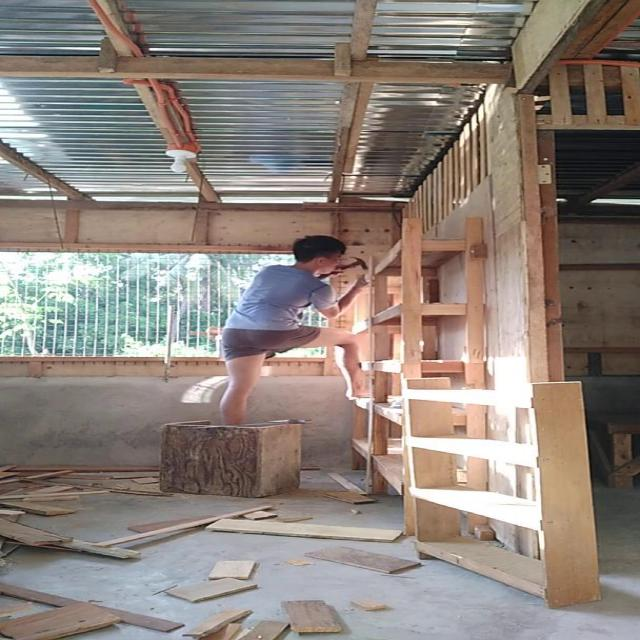hammer: (317, 254, 370, 280)
